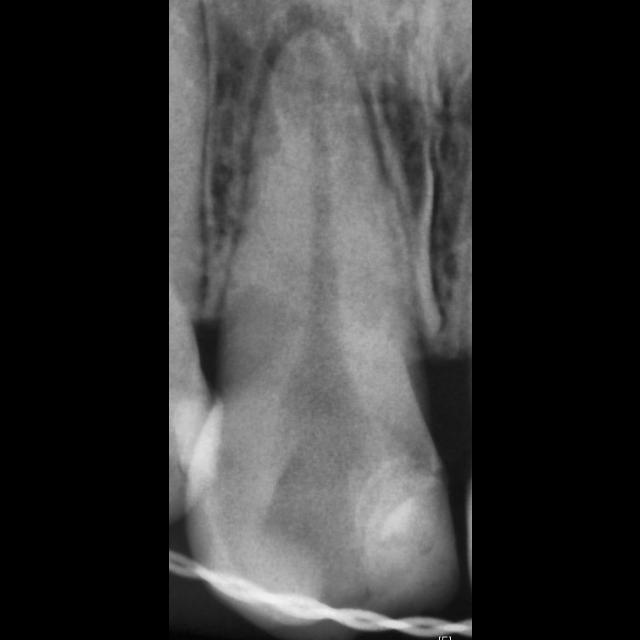tooth: (183, 25, 460, 639)
